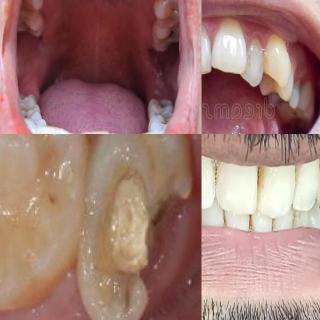cavities: (100, 173, 201, 320), (272, 80, 306, 104), (160, 115, 172, 133), (16, 0, 27, 14), (22, 110, 34, 122), (167, 28, 177, 42), (158, 99, 168, 111)
maligned: (264, 38, 294, 83), (242, 36, 270, 82)
stains: (234, 40, 260, 80), (256, 162, 266, 193), (212, 159, 220, 187), (246, 214, 256, 232), (222, 209, 228, 228)
